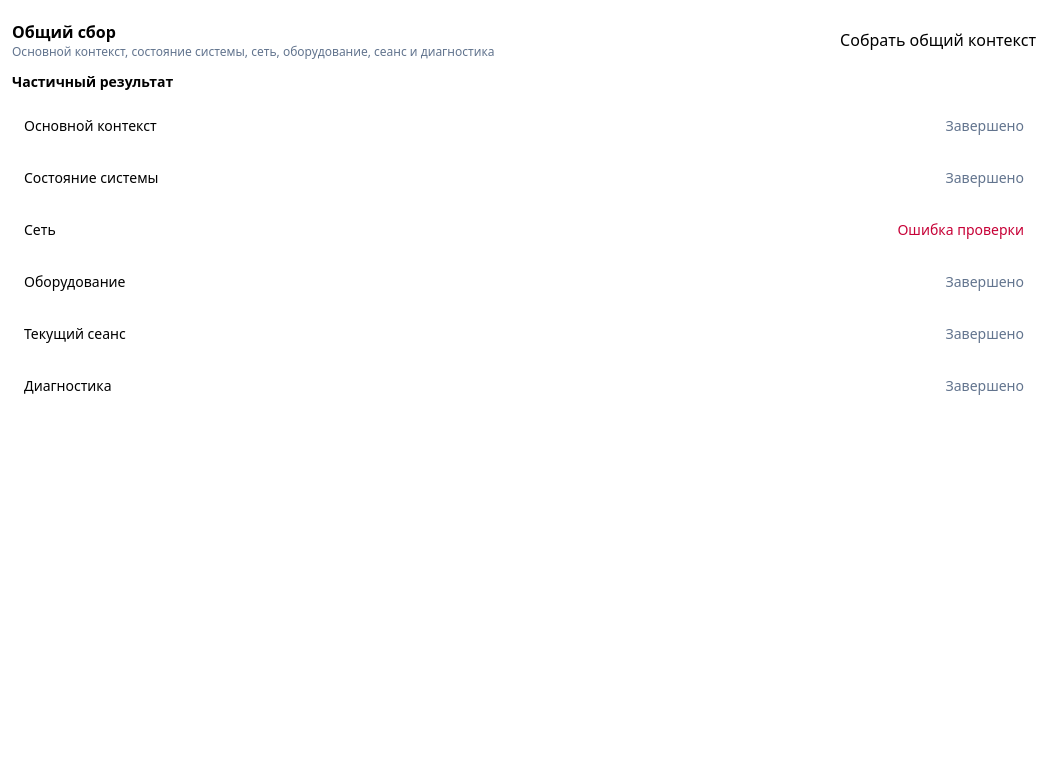
Test case: shows six steps and partial outcome without reusing old snapshots
Expected: the text "Частичный результат" is shown, [12,72,173,91]
Click the button with aria-label "Выбрать результат: Сеть" at (40,230), box [12,208,1036,252]
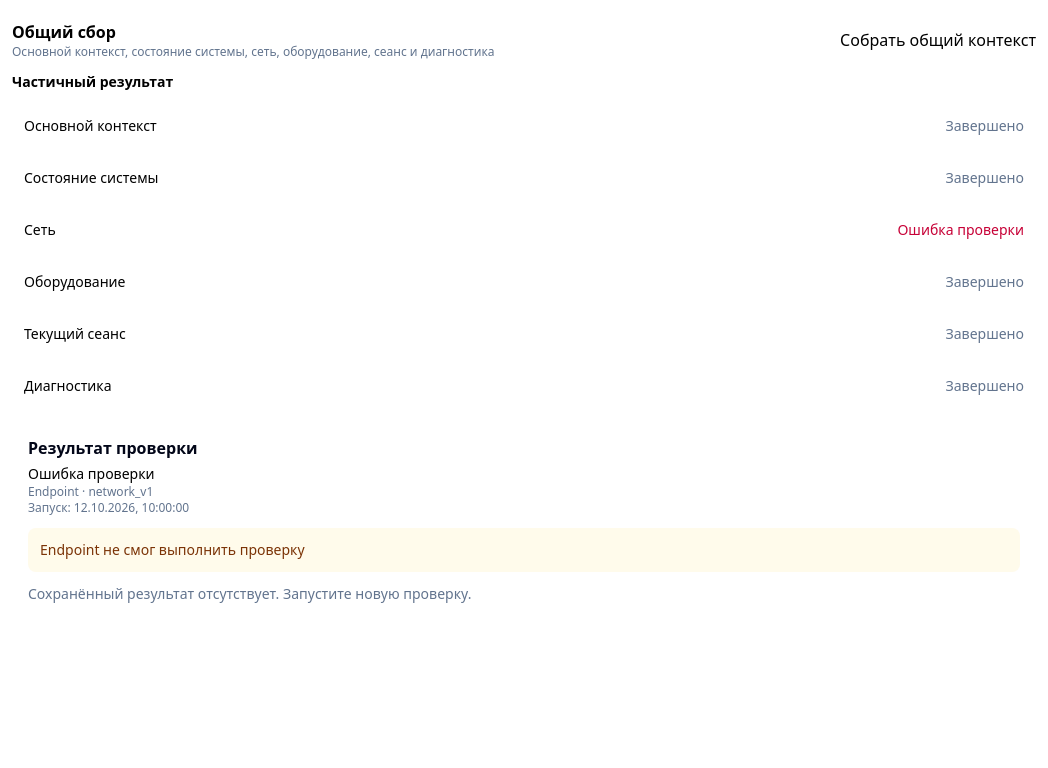
Now the text "Сохранённый результат отсутствует. Запустите новую проверку." is shown, box [28,584,471,603]
